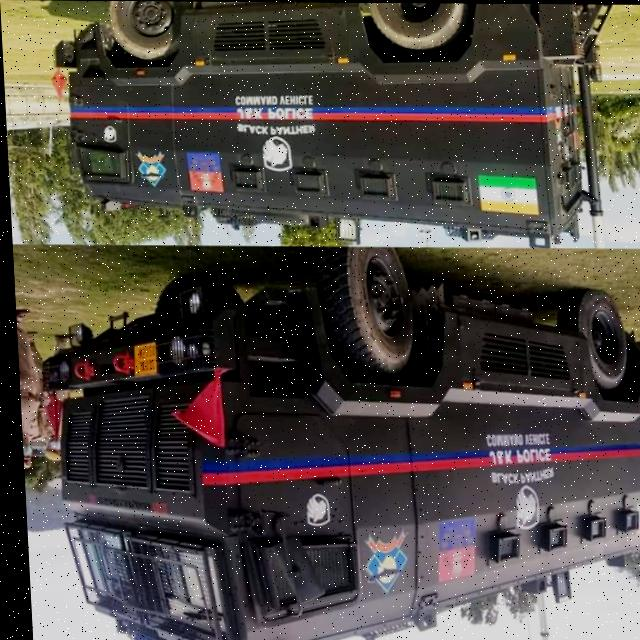plate: (128, 339, 157, 380)
